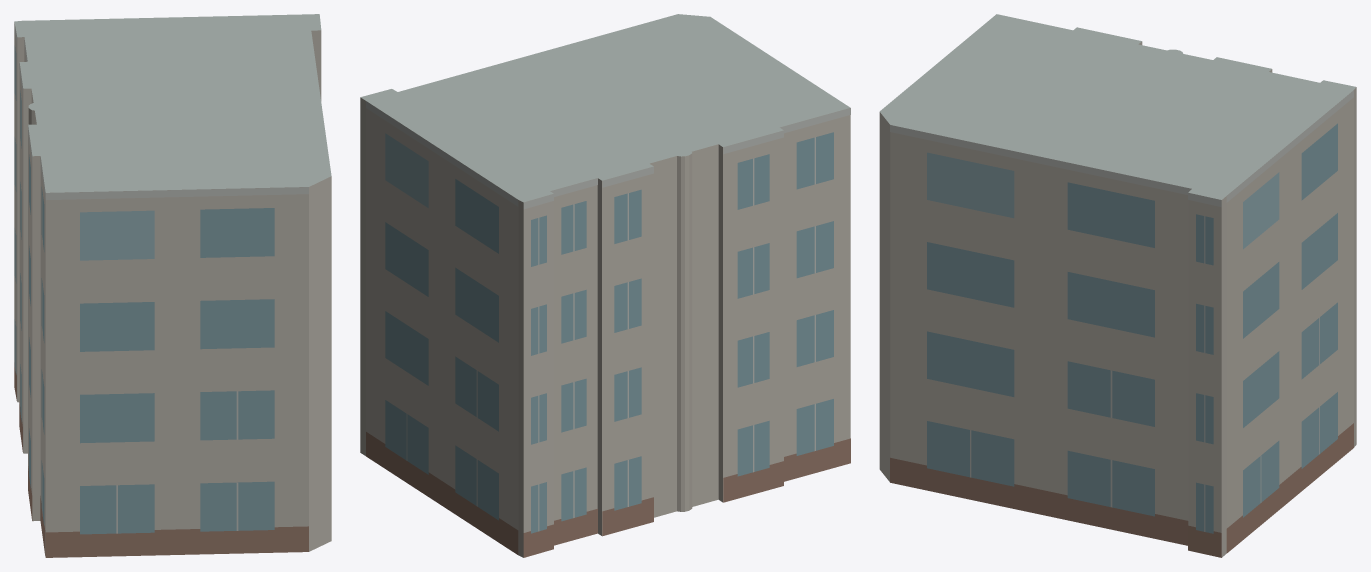
The model's file is survey-upis-32630375.glb.
3 renders of one model, left to right at view 1: azimuth 30°, elevation 25°; view 2: azimuth 150°, elevation 25°; view 3: azimuth 270°, elevation 25°, orthographic. The views are drawn at different scales.
Parts seen in each view (by area): view 1: survey-upis-32630375.tmp; view 2: survey-upis-32630375.tmp; view 3: survey-upis-32630375.tmp.
Boxes of the visible parts, box(x1,y1,x2,y2) form: survey-upis-32630375.tmp: box(14, 14, 331, 557); survey-upis-32630375.tmp: box(360, 14, 850, 557); survey-upis-32630375.tmp: box(879, 14, 1356, 557).
Bounding box in the file's own units: 13.61 × 12.2 × 14.75.
